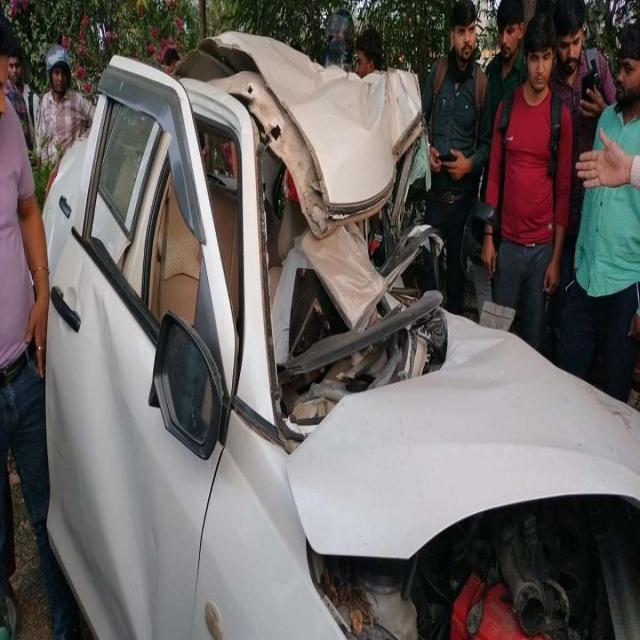accident: (44, 33, 640, 639)
